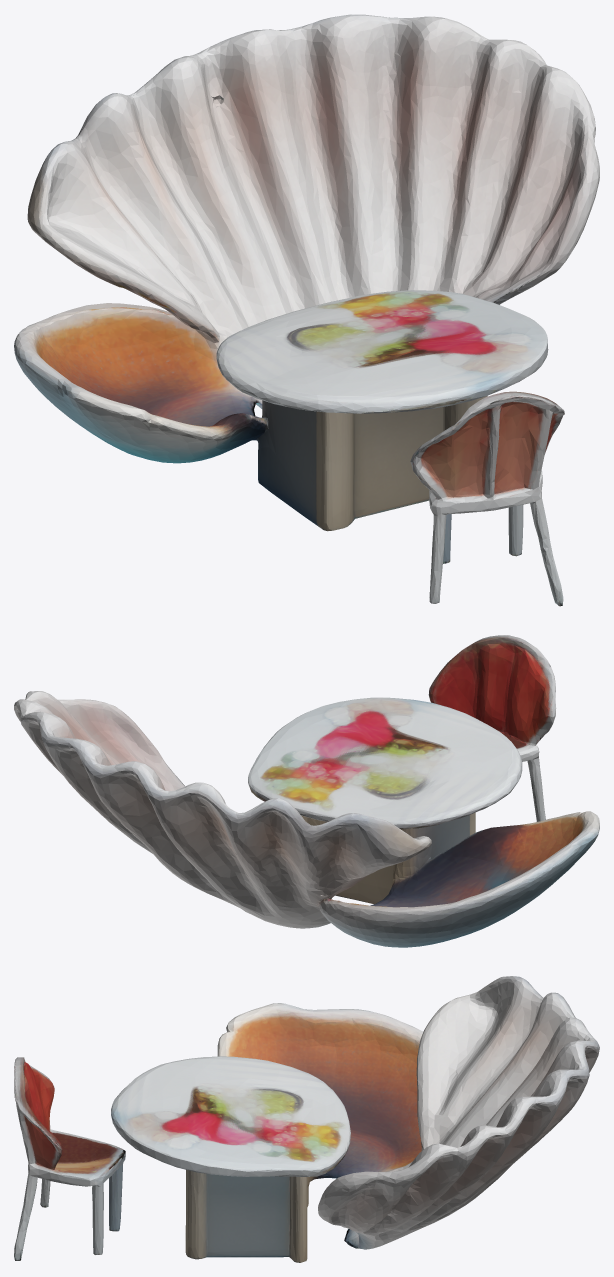
The model's file is desk.glb.
3 views of the same model, one above another, from view 1: azimuth 30°, elevation 25°; view 2: azimuth 150°, elevation 25°; view 3: azimuth 270°, elevation 25° (orthographic). The views are drawn at different scales.
Parts seen in each view (by area): view 1: world; view 2: world; view 3: world.
Part boxes in pixels (x1=…): world: x1=14, y1=14, x2=599, y2=606; world: x1=14, y1=635, x2=599, y2=947; world: x1=14, y1=976, x2=599, y2=1262.
Size of the model in its own units: 0.9323 by 0.4462 by 0.9899.
1 material, 1 textured.
